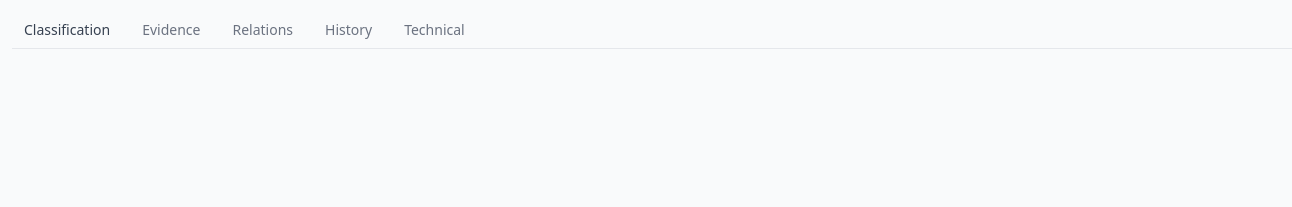
Test: AccountSubviewTabs (relations タブの追加取得) › Load more をクリックすると次ページを取得して既存 items に連結する
Step 1. Click the tab "Relations" → (263, 30), box [220,12,305,48]
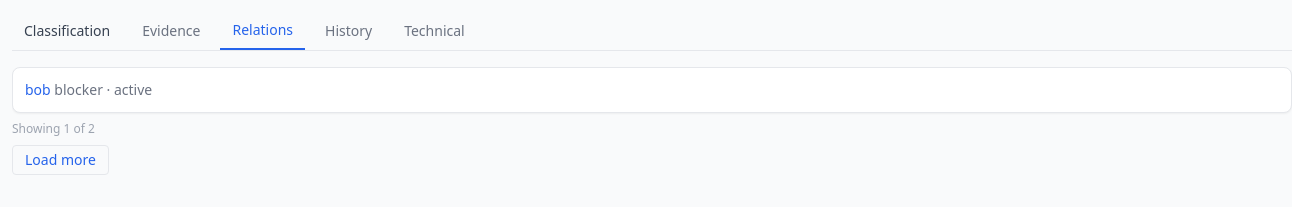
expect the link "bob" is shown: met, box [25,80,51,99]
Step 2. Click the button "Load more" → (60, 160), box [12,145,109,175]
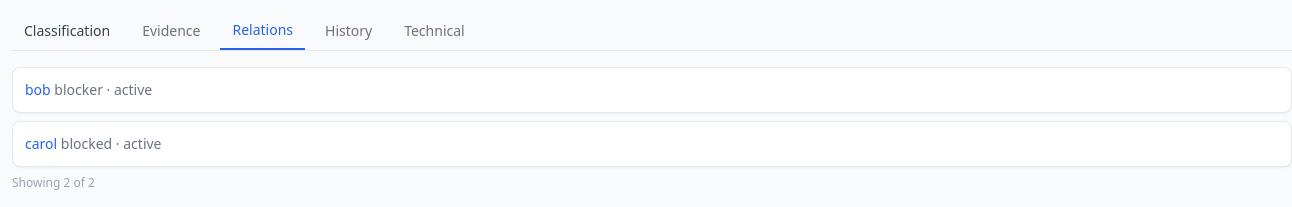
expect the link "bob" is shown: met, box [25,80,51,99]
expect the link "carol" is shown: met, box [25,134,57,153]
